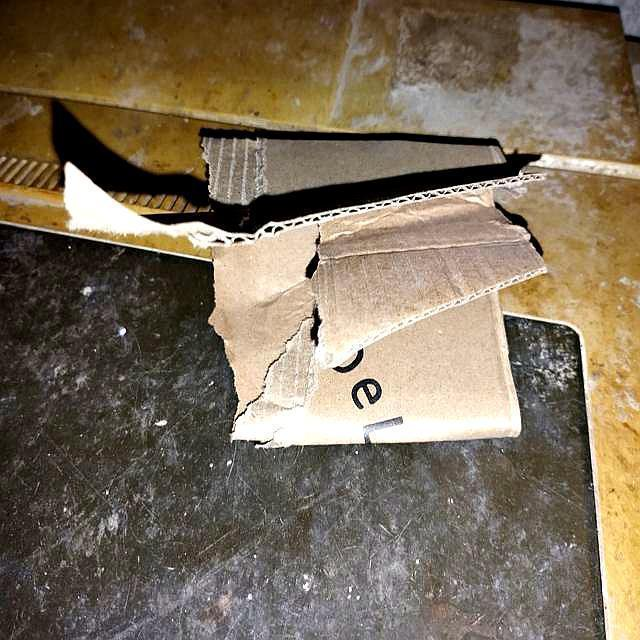Biodegradable: (193, 131, 551, 441)
